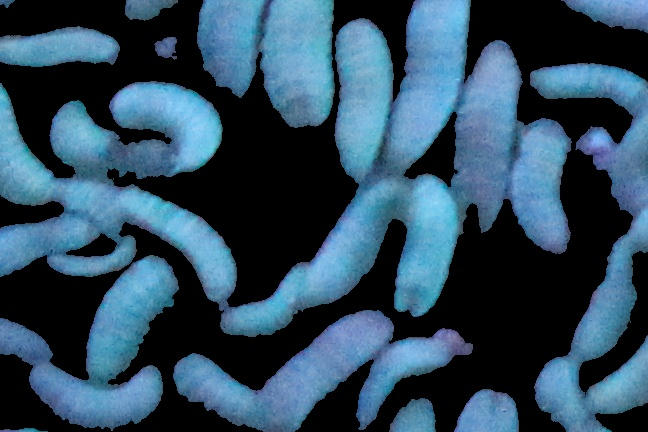larvae: (254, 312, 391, 424), (391, 1, 472, 175), (452, 40, 521, 244), (119, 189, 239, 300), (294, 183, 401, 304), (85, 260, 183, 382), (112, 83, 222, 174), (51, 98, 168, 183), (513, 113, 578, 257), (333, 17, 390, 179), (29, 366, 162, 432), (266, 1, 336, 125), (567, 247, 641, 363), (394, 185, 455, 309), (355, 342, 447, 424), (210, 277, 317, 342), (196, 1, 265, 99), (529, 54, 648, 110), (1, 79, 52, 205), (529, 354, 605, 432), (170, 354, 257, 422), (1, 219, 94, 275), (1, 29, 119, 70), (585, 339, 648, 414), (53, 178, 125, 229), (48, 237, 139, 277), (1, 315, 51, 368)
